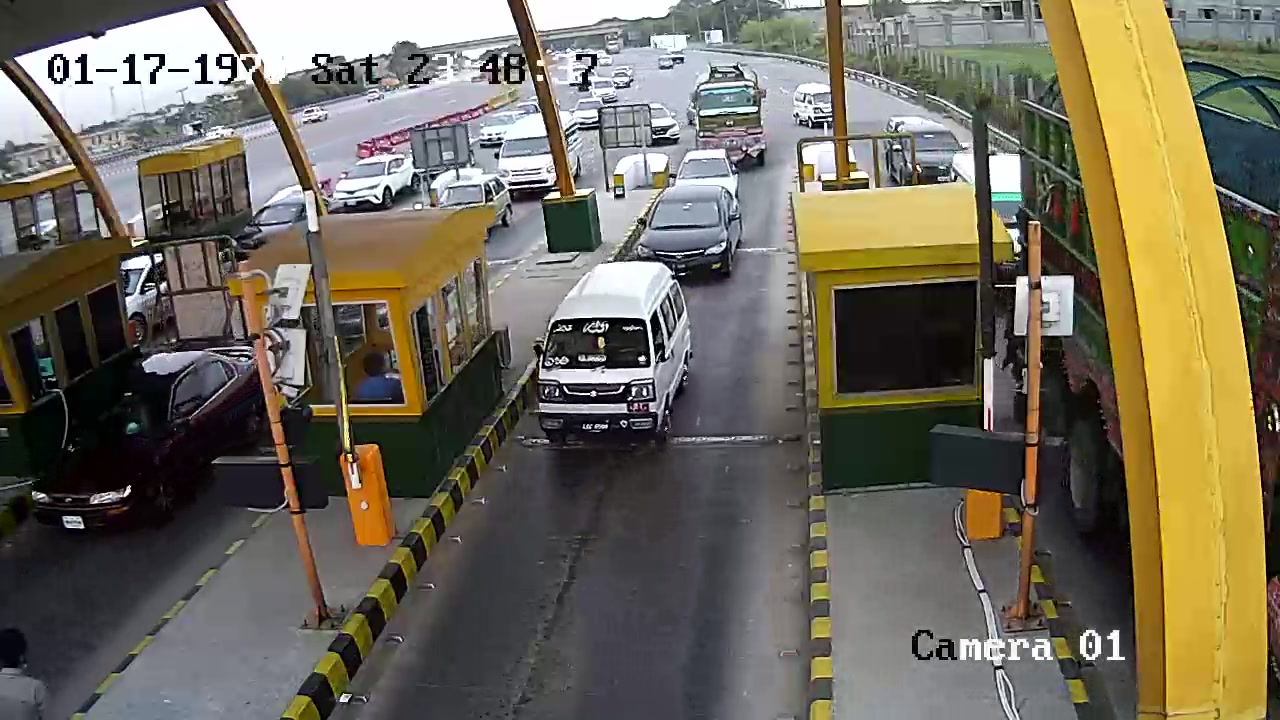F1: (535, 254, 695, 457)
